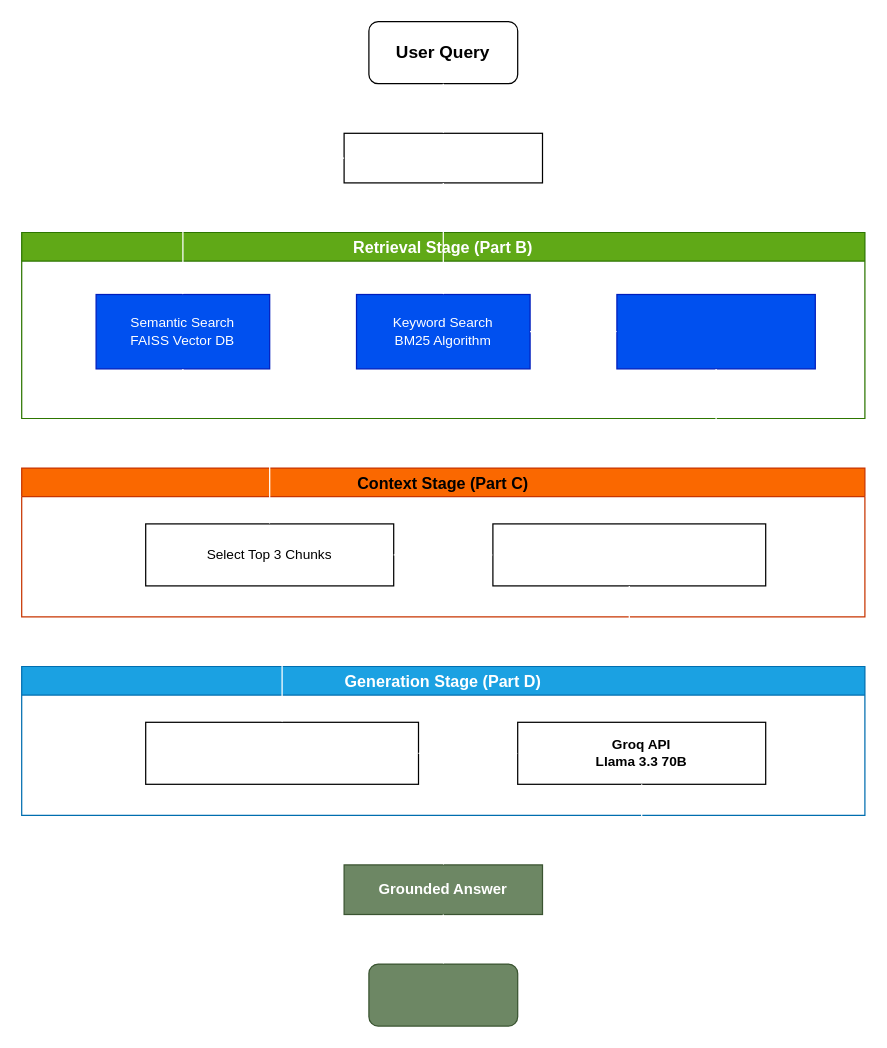
The diagram is 887 pixels wide and 1048 high, and some of its shapes have lost their labels. The centre of each missing label's shape, as x and y in pixels:
Construct Context Block (Truncate to 4000 chars): the point at 629,554
Final User Response: the point at 443,994
Hybrid Score Fusion (Semantic + Keyword): the point at 715,331
Query Pre-processing: the point at 442,157
System Prompt + Context + Query: the point at 281,752
